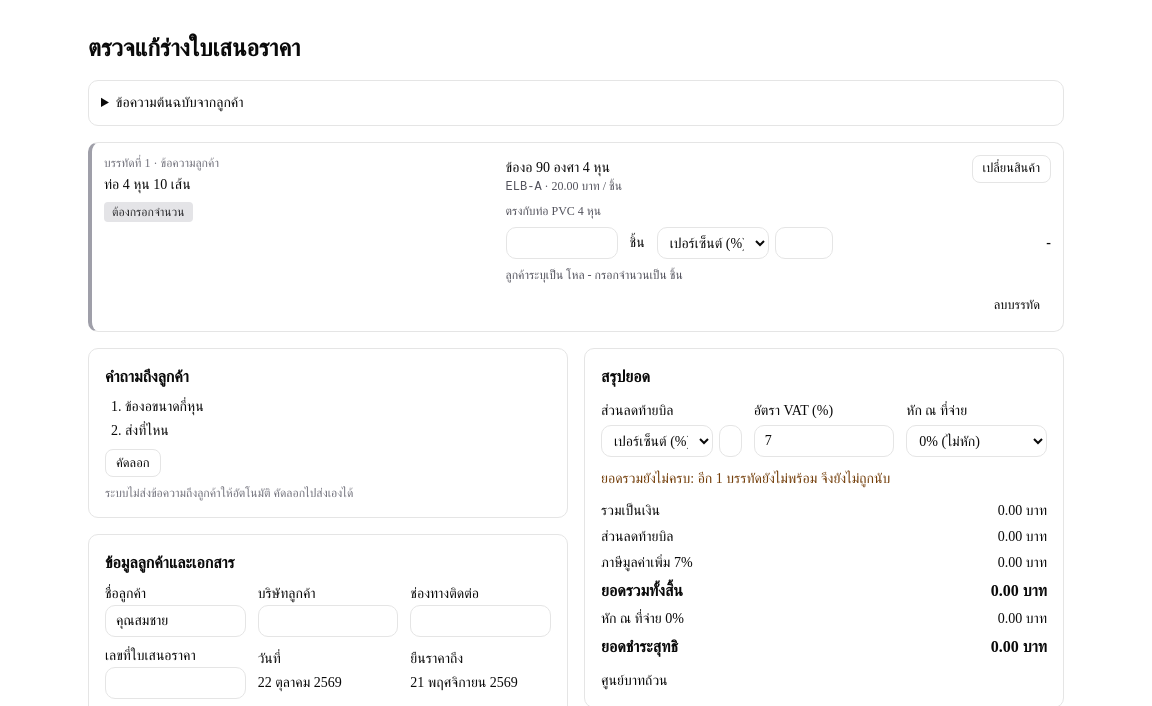
Scenario: unit handling on screen › explains a dozen request with no quantity and takes the typed number in the catalog unit
expect the text "ลูกค้าระบุเป็น โหล - กรอกจำนวนเป็น ชิ้น" is shown: met, box [506, 268, 683, 282]
expect the text "ต้องกรอกจำนวน" is shown: met, box [104, 202, 192, 222]
Type "2" into the field named "จำนวน บรรทัดที่ 1". click: (562, 243)
box: [506, 227, 618, 259]
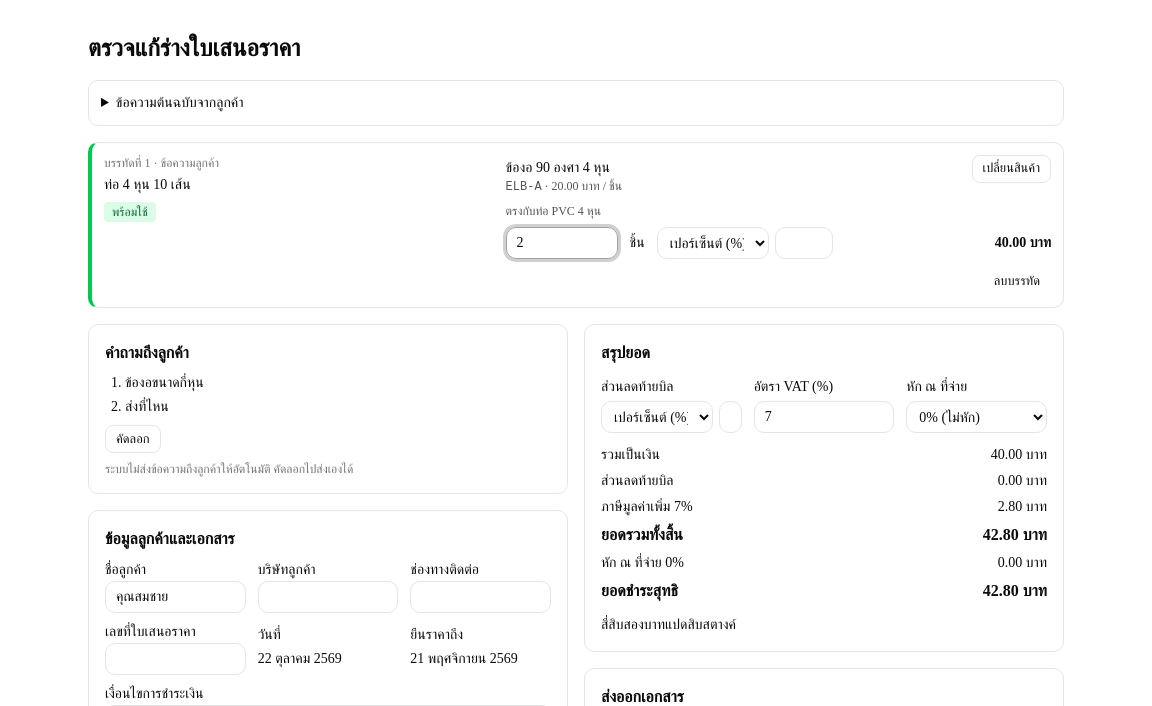
expect the text "พร้อมใช้" is shown: met, box [104, 202, 156, 222]
expect the 1st text "40.00 บาท" is shown: met, box [995, 235, 1051, 250]
